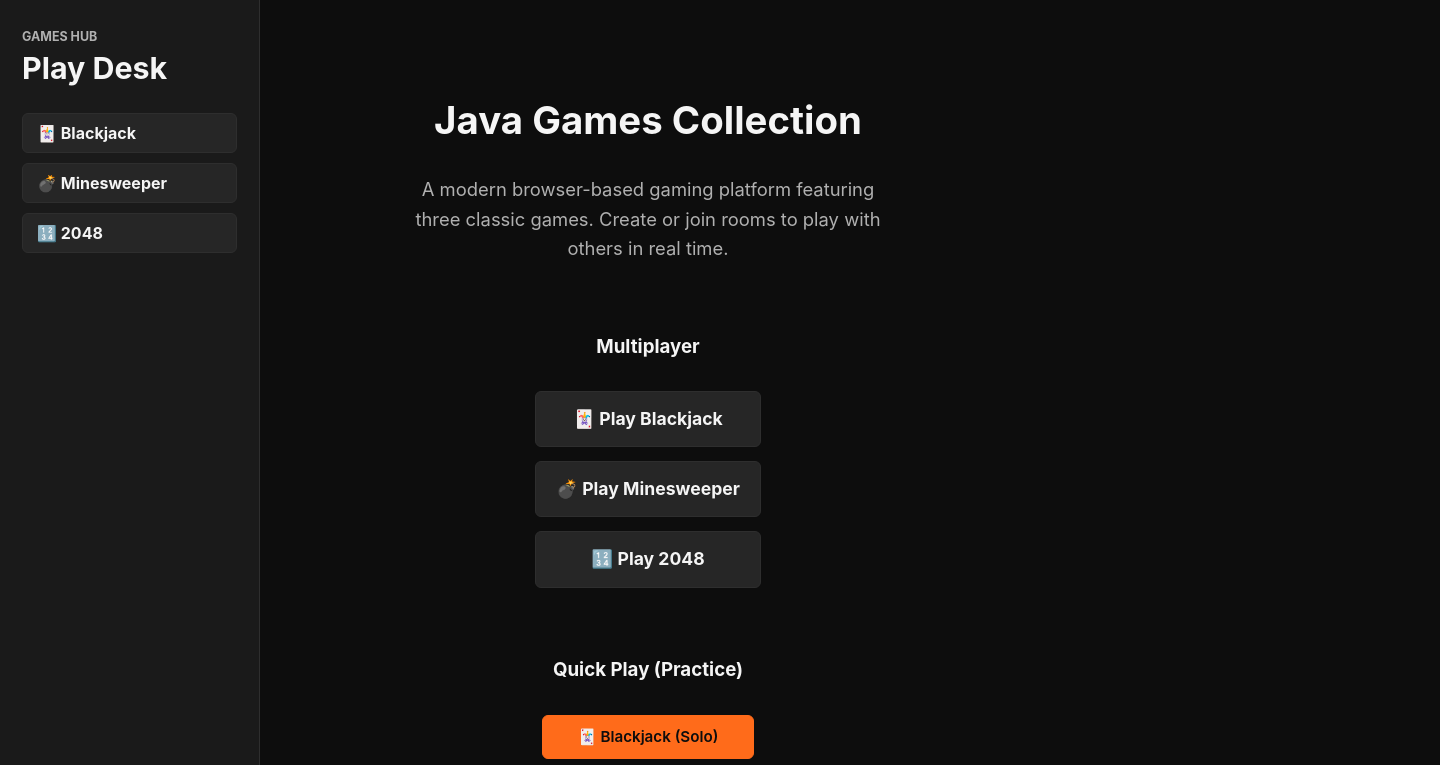
Test: 6g E3 - 500 on the first create is healed by the retry › the retry succeeds, the game opens, and no error is shown
The width and height of the screenshot is (1440, 765).
Click the button "🃏 Blackjack (Solo)" at (648, 737), box [542,714,754,759]
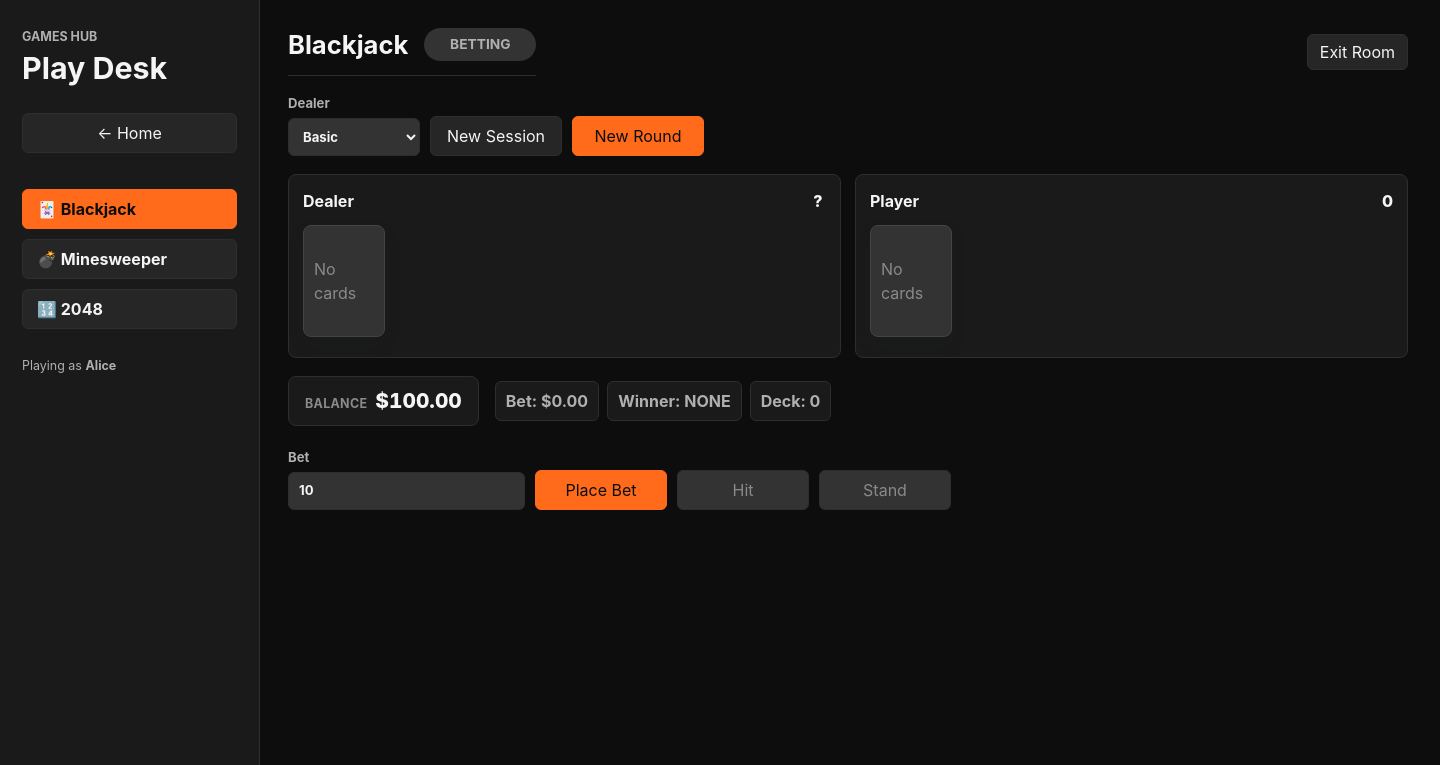
Now the heading "Blackjack" is shown, box [288,30,408,59]
